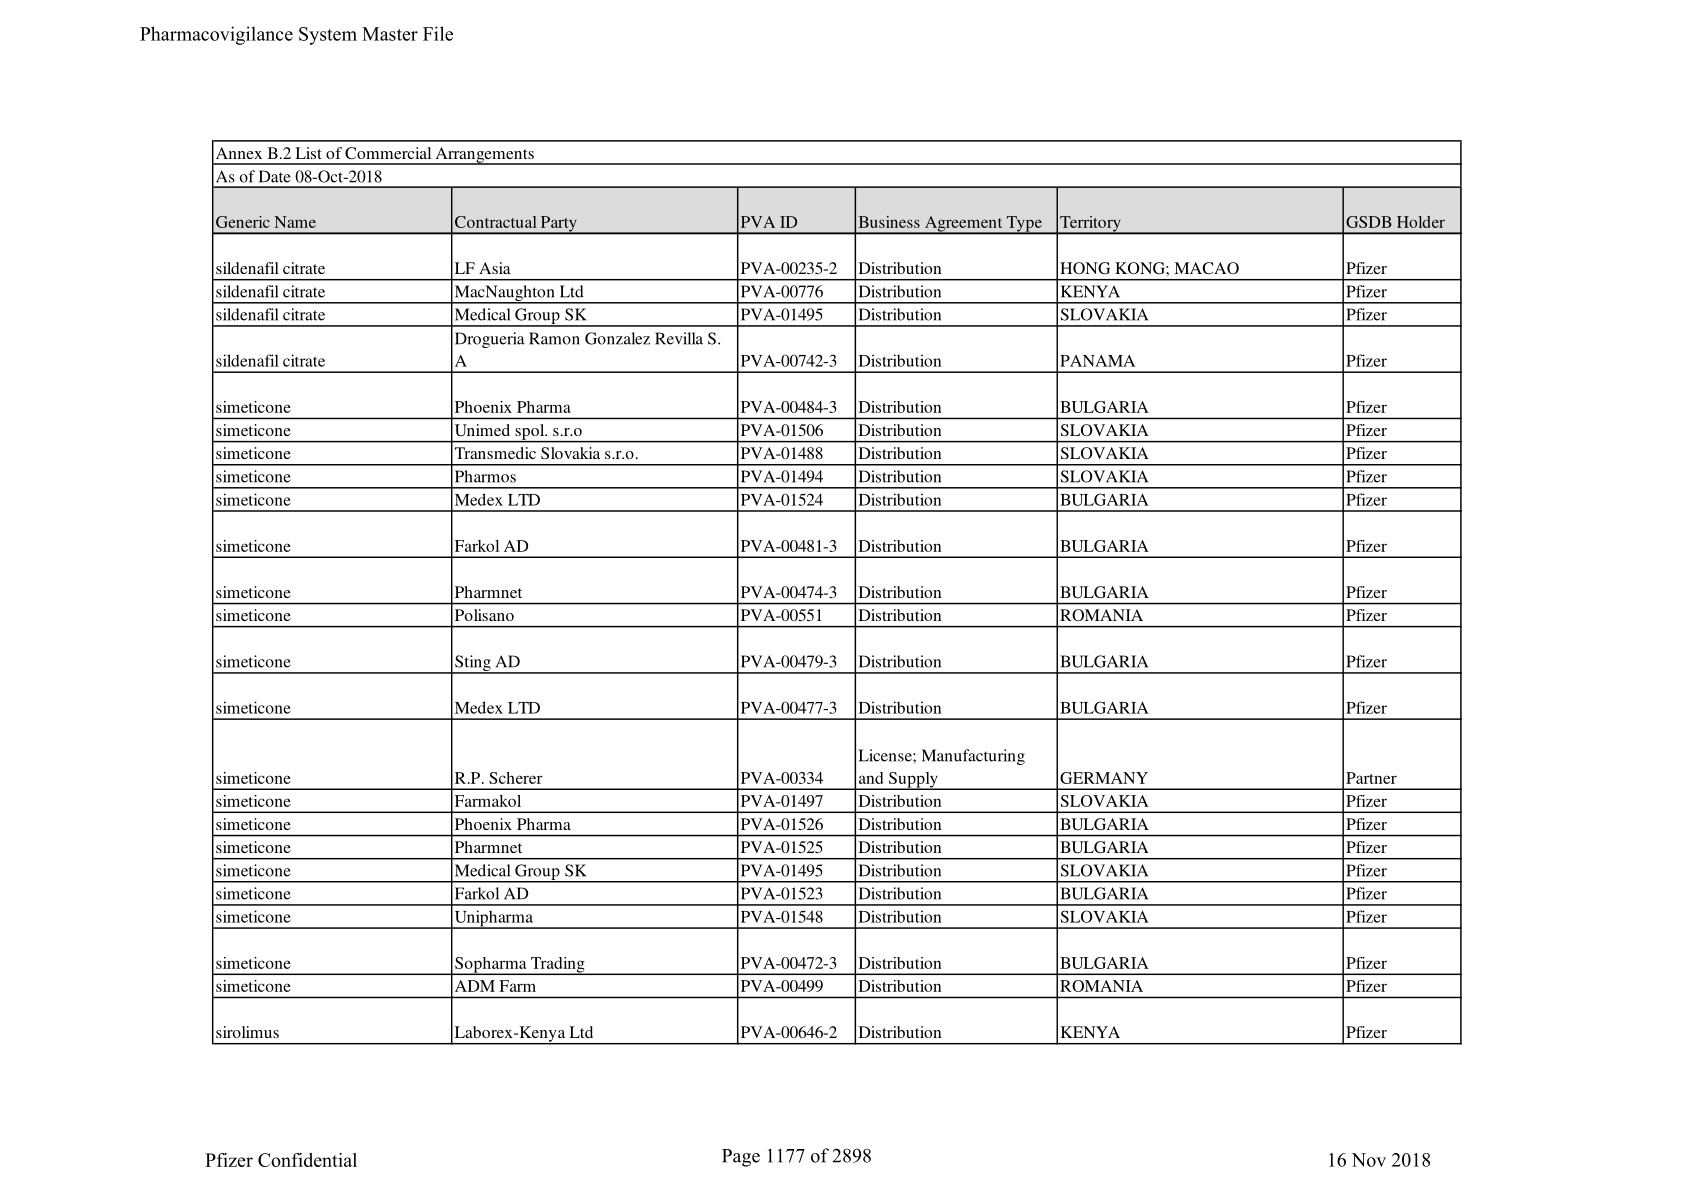merged_cells: (211, 139, 1463, 1047)
